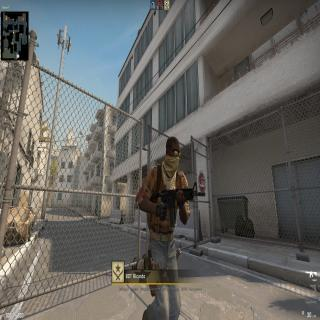T-Head: (165, 132, 181, 172)
